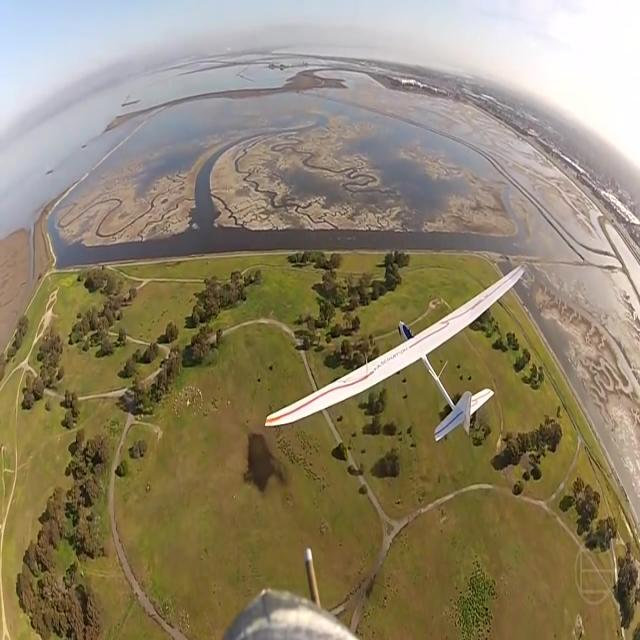iha: (261, 259, 517, 446)
